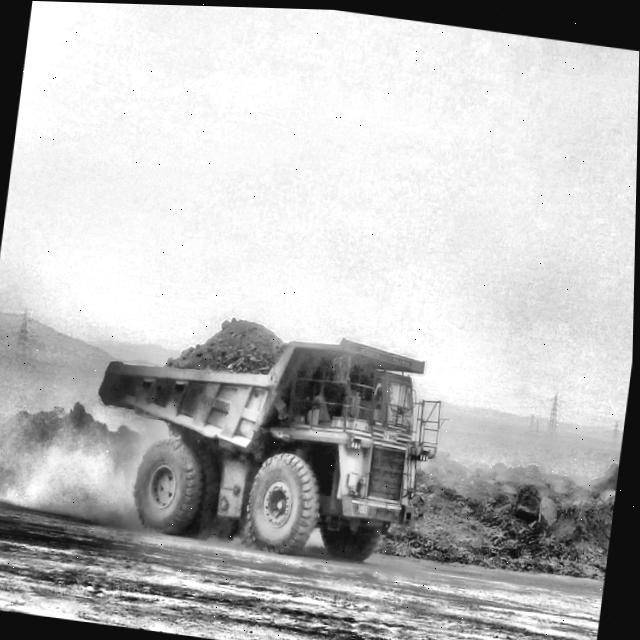dump_truck: (102, 318, 443, 559)
